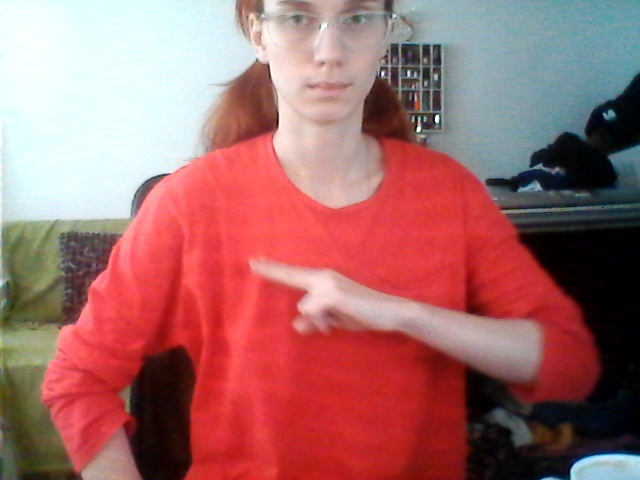frajer: (246, 243, 401, 350)
